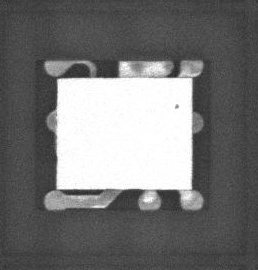DIE_INK: (164, 107, 172, 115)
